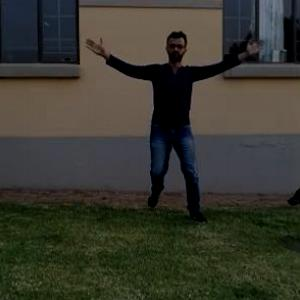takeoff: (77, 29, 244, 207)
